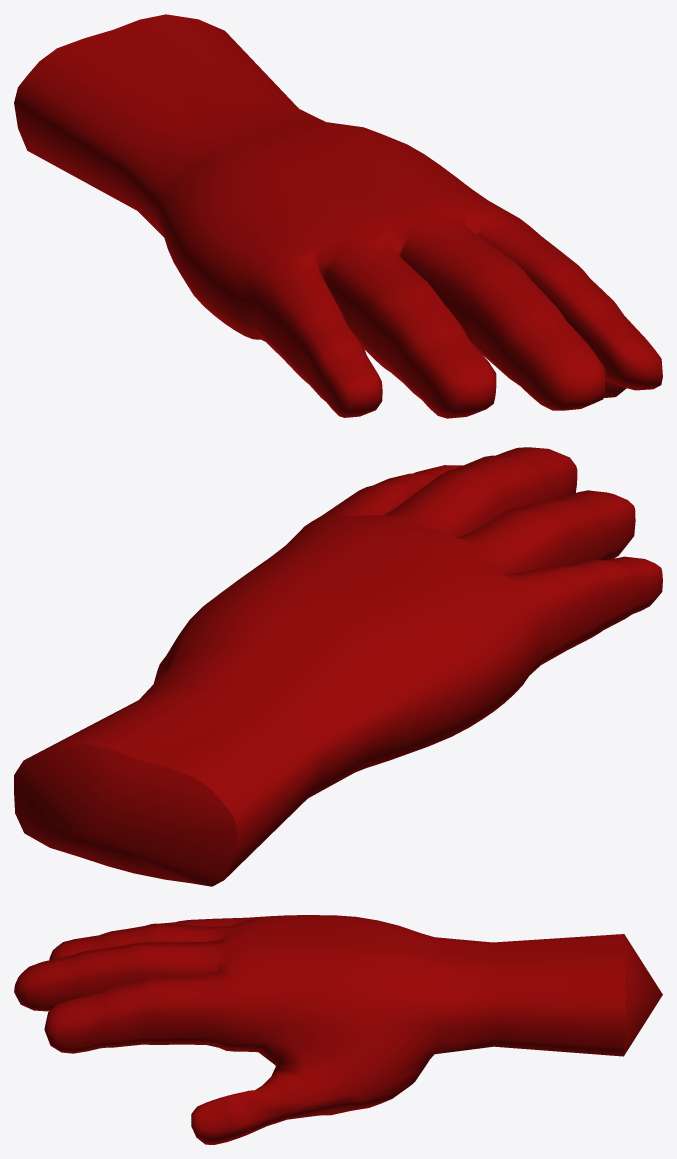
The model's file is GorillaHandFBX.FBX.
3 views of the same model, one above another, from view 1: azimuth 30°, elevation 25°; view 2: azimuth 150°, elevation 25°; view 3: azimuth 270°, elevation 25° (orthographic). The views are drawn at different scales.
Parts seen in each view (by area): view 1: Glove; view 2: Glove; view 3: Glove.
Part boxes in pixels (<box>): Glove: <box>14,14,662,418</box>; Glove: <box>14,447,662,886</box>; Glove: <box>14,915,662,1144</box>.
Size of the model in its own units: 95.09 by 54.72 by 219.
